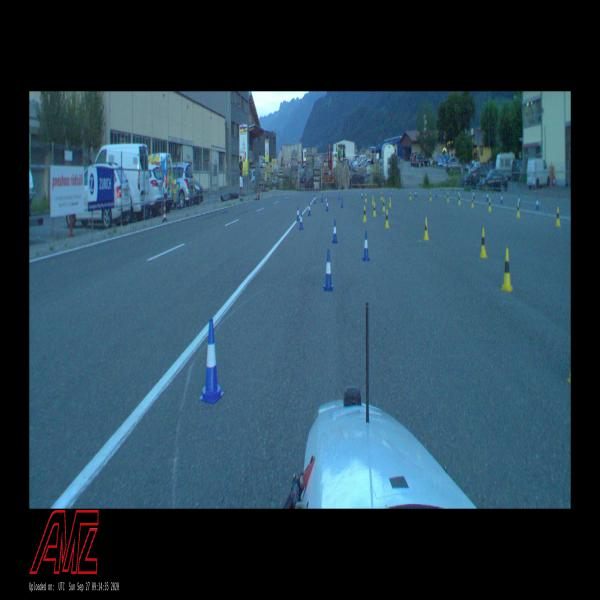blue_cone: (199, 318, 225, 404), (323, 250, 333, 290), (362, 231, 370, 261), (332, 219, 338, 243), (299, 211, 303, 230), (296, 206, 300, 221), (308, 202, 311, 216), (326, 201, 328, 211), (314, 194, 316, 204), (415, 190, 417, 198), (361, 190, 363, 198), (326, 196, 327, 206)
yellow_cone: (501, 248, 513, 291), (479, 228, 488, 258), (423, 217, 429, 241), (384, 210, 390, 228), (556, 206, 560, 227), (363, 205, 367, 222), (516, 201, 520, 218), (488, 198, 492, 212), (372, 202, 376, 216), (382, 198, 385, 212), (458, 193, 461, 205), (471, 196, 474, 208), (409, 191, 412, 200), (380, 191, 383, 200), (429, 192, 432, 201), (389, 196, 391, 207), (365, 192, 367, 202), (447, 192, 449, 202), (372, 195, 374, 205)
